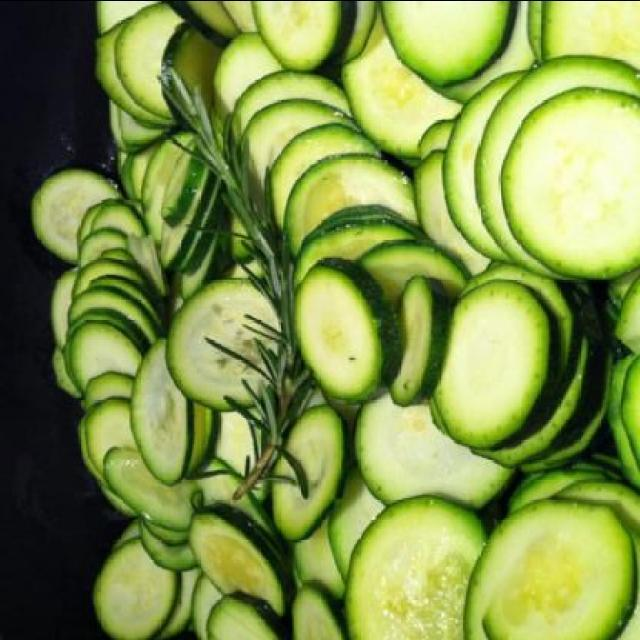Zucchini: (26, 2, 639, 640), (496, 81, 638, 292)
